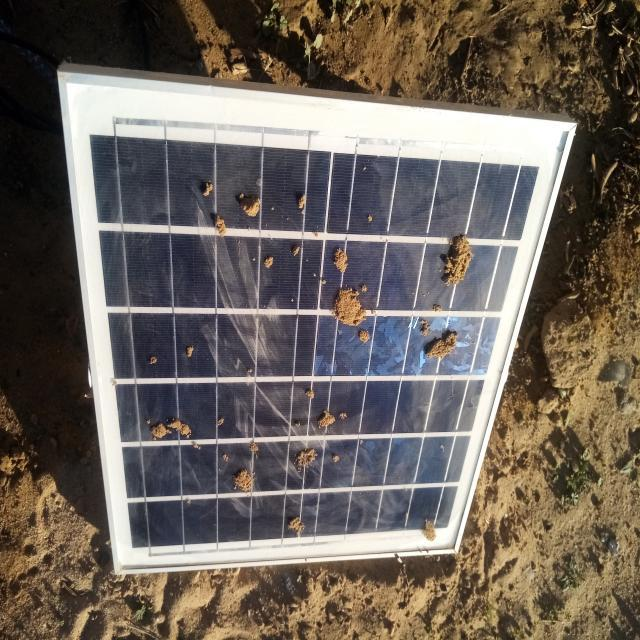faulty: (65, 76, 575, 568)
